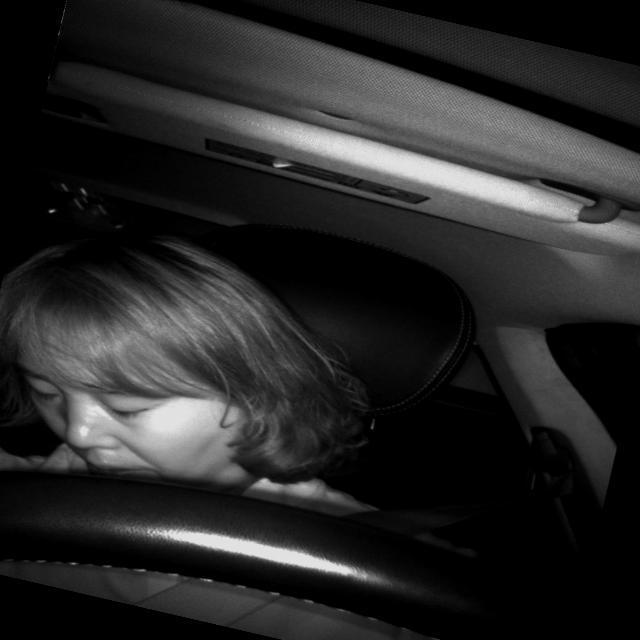Inattentive: (15, 236, 322, 477)
